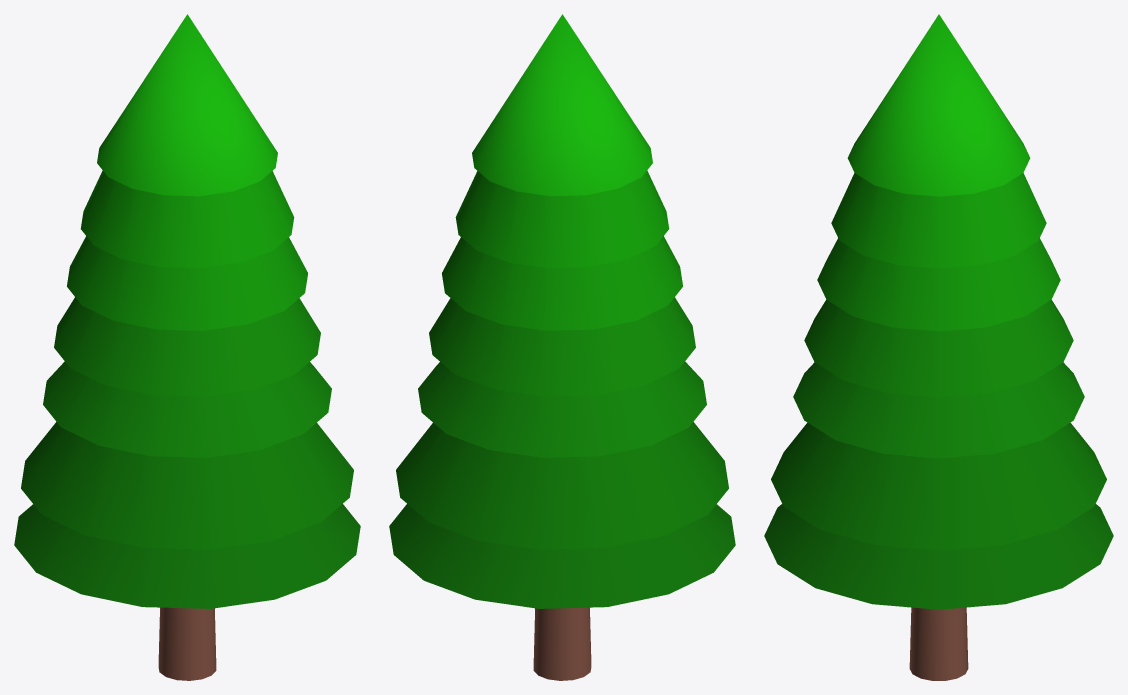
Rendered from Spruce_Cold_Green_2.fbx.
3 renders of one model, left to right at view 1: azimuth 30°, elevation 25°; view 2: azimuth 150°, elevation 25°; view 3: azimuth 270°, elevation 25°, orthographic.
Parts seen in each view (by area): view 1: Cylinder.995, Cylinder.994, Cylinder.996, Cylinder.997, Cylinder.999, Cylinder.998, Cylinder.992, Cylinder.993; view 2: Cylinder.995, Cylinder.994, Cylinder.996, Cylinder.997, Cylinder.999, Cylinder.998, Cylinder.992, Cylinder.993; view 3: Cylinder.995, Cylinder.994, Cylinder.996, Cylinder.997, Cylinder.999, Cylinder.998, Cylinder.992, Cylinder.993.
Part boxes in pixels (bbox=[...]): Cylinder.995: bbox=[21, 422, 353, 549]; Cylinder.994: bbox=[14, 504, 360, 608]; Cylinder.996: bbox=[97, 14, 277, 196]; Cylinder.997: bbox=[43, 361, 331, 457]; Cylinder.999: bbox=[54, 297, 320, 396]; Cylinder.998: bbox=[67, 236, 307, 330]; Cylinder.992: bbox=[80, 170, 294, 268]; Cylinder.993: bbox=[158, 607, 216, 680]; Cylinder.995: bbox=[396, 422, 728, 549]; Cylinder.994: bbox=[389, 504, 735, 608]; Cylinder.996: bbox=[472, 14, 652, 196]; Cylinder.997: bbox=[418, 361, 706, 457]; Cylinder.999: bbox=[429, 297, 695, 396]; Cylinder.998: bbox=[442, 236, 682, 330]; Cylinder.992: bbox=[455, 170, 669, 268]; Cylinder.993: bbox=[533, 607, 591, 680]; Cylinder.995: bbox=[771, 422, 1106, 550]; Cylinder.994: bbox=[764, 504, 1113, 609]; Cylinder.996: bbox=[847, 14, 1030, 196]; Cylinder.997: bbox=[793, 362, 1084, 458]; Cylinder.999: bbox=[804, 299, 1073, 397]; Cylinder.998: bbox=[817, 238, 1060, 331]; Cylinder.992: bbox=[831, 173, 1046, 268]; Cylinder.993: bbox=[909, 607, 968, 680].
Bounding box in the file's own units: 276 × 570 × 276.
